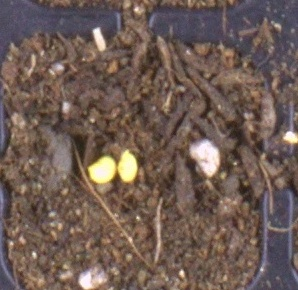chilli seed: (87, 154, 116, 183), (116, 149, 137, 183)
